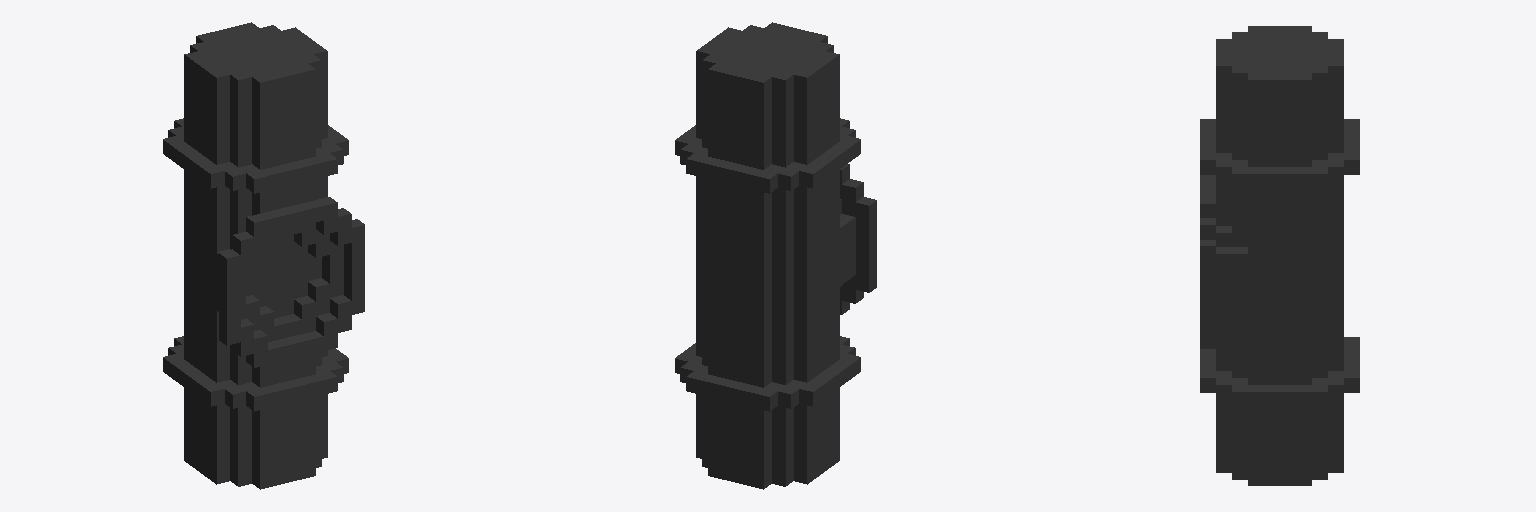
The picture shows the model from 3 angles: view 1: azimuth 30°, elevation 25°; view 2: azimuth 150°, elevation 25°; view 3: azimuth 270°, elevation 25°; orthographic projection.
Visible parts, largest first — view 1: object 1; view 2: object 1; view 3: object 1.
Boxes of the visible parts, x1,y1,x2,y2 form: object 1: [163, 22, 364, 489]; object 1: [675, 22, 876, 489]; object 1: [1200, 26, 1359, 485].
Size of the model in its own units: 1 by 2.8 by 1.
Materials: 1 (1 with a texture image).